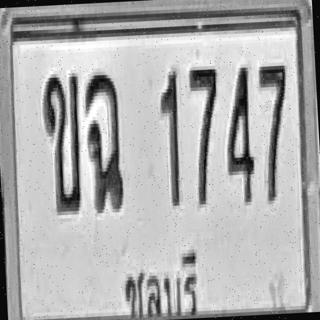A02: (40, 72, 85, 214)
A09: (83, 70, 125, 212)
N01: (158, 68, 183, 206)
N04: (222, 64, 257, 203)
N07: (188, 64, 223, 206), (258, 62, 292, 201)
P13: (119, 242, 206, 320)
